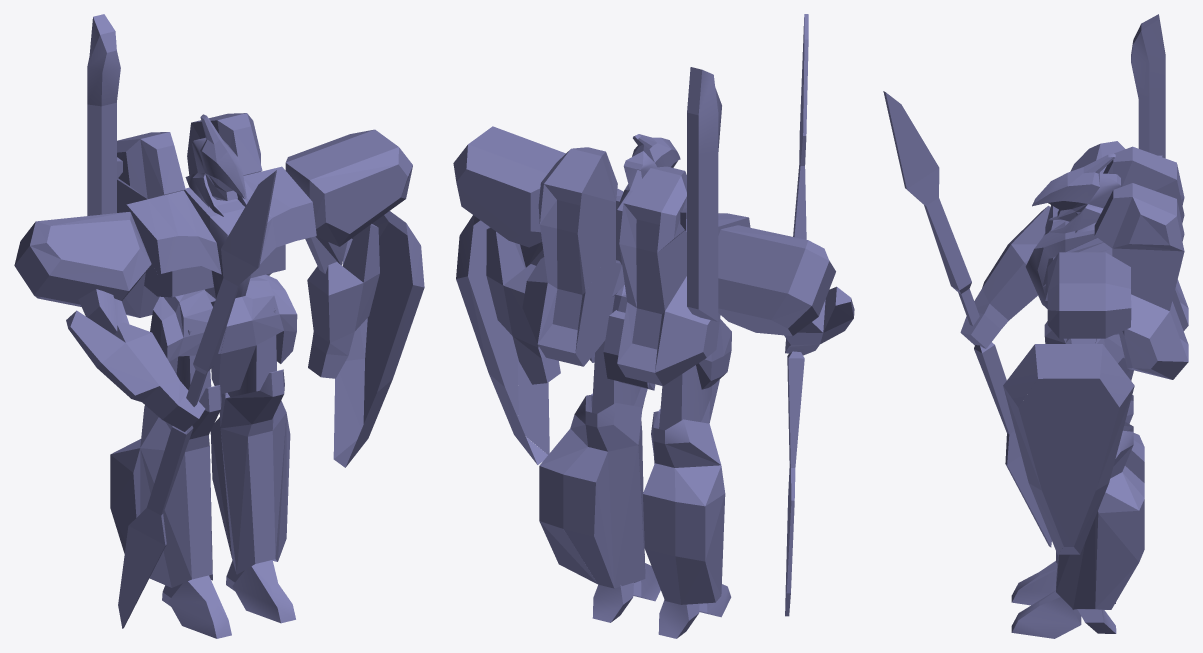
Rendered from robot1.obj.
3 renders of one model, left to right at view 1: azimuth 30°, elevation 25°; view 2: azimuth 150°, elevation 25°; view 3: azimuth 270°, elevation 25°, orthographic. The views are drawn at different scales.
Parts seen in each view (by area): view 1: robot1; view 2: robot1; view 3: robot1.
Part boxes in pixels (x1=…): robot1: x1=14, y1=14, x2=424, y2=638; robot1: x1=453, y1=14, x2=854, y2=638; robot1: x1=883, y1=14, x2=1188, y2=638.
Size of the model in its own units: 11.68 by 17.86 by 8.83.
